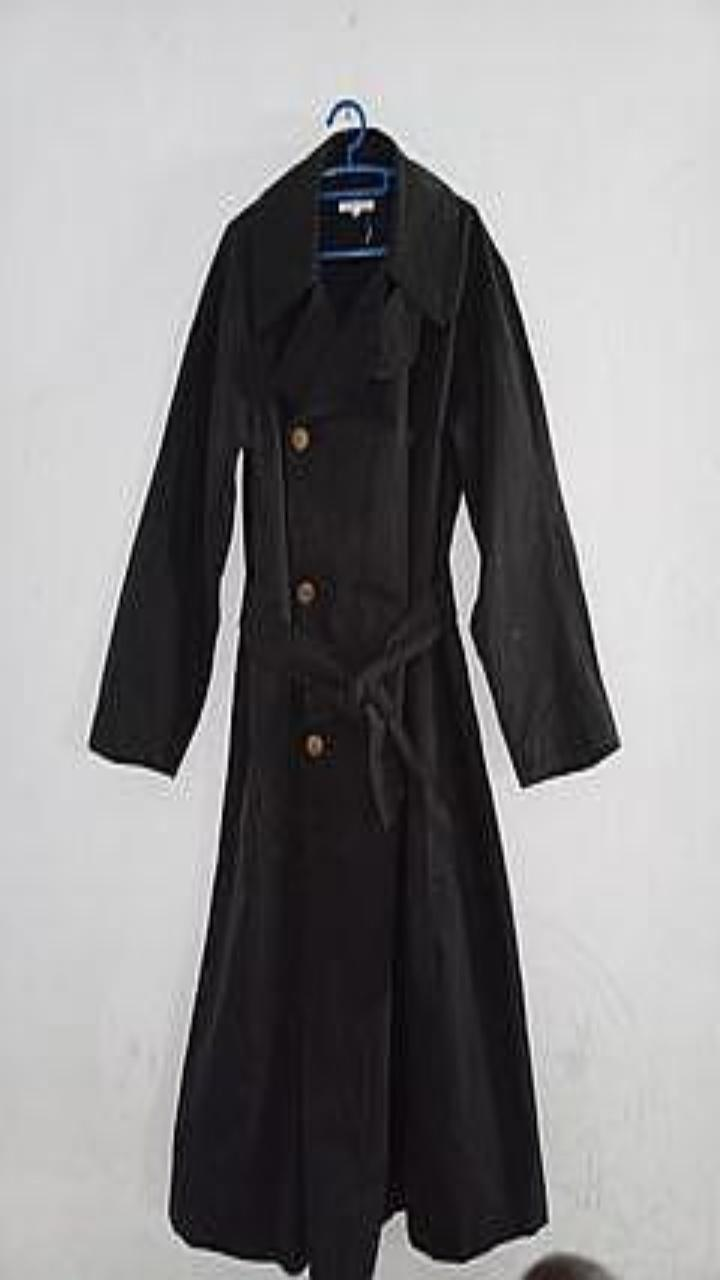Coat: (89, 128, 619, 1279)
